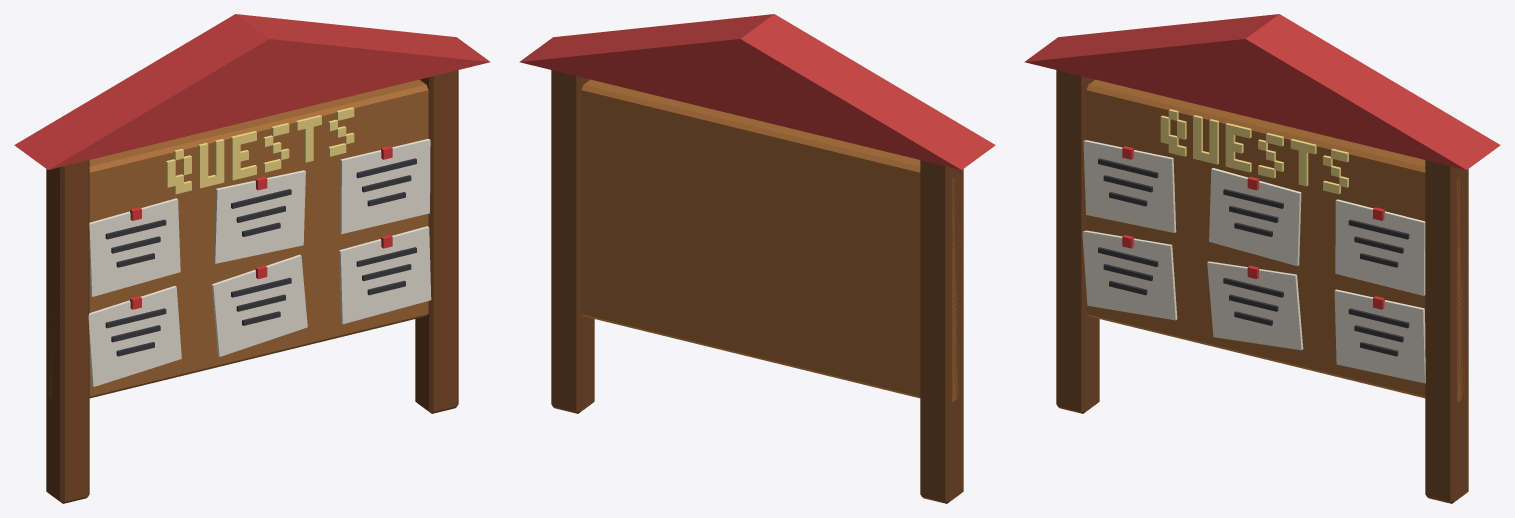
File: QuestBoard.fbx
3 views of the same model, side by side, from view 1: azimuth 30°, elevation 25°; view 2: azimuth 150°, elevation 25°; view 3: azimuth 330°, elevation 25° (orthographic).
Visible parts, largest first — view 1: QuestBoard; view 2: QuestBoard; view 3: QuestBoard.
Boxes of the visible parts, x1,y1,x2,y2 form: QuestBoard: [14, 14, 490, 503]; QuestBoard: [519, 14, 995, 503]; QuestBoard: [1024, 14, 1500, 503].
Size of the model in its own units: 12 by 11 by 1.6.
1 material, 1 textured.
